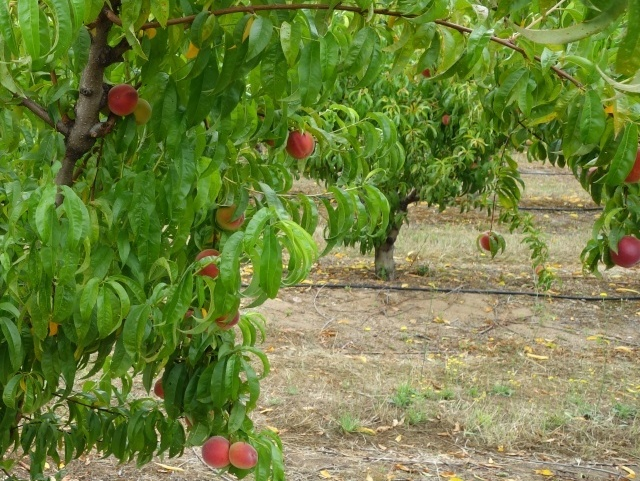peach: (605, 227, 639, 276), (104, 81, 142, 118), (200, 434, 237, 471), (224, 436, 262, 472), (284, 126, 317, 164), (190, 246, 225, 280), (213, 199, 247, 232), (128, 95, 156, 127), (212, 303, 242, 331), (149, 376, 172, 405), (478, 227, 502, 254)
